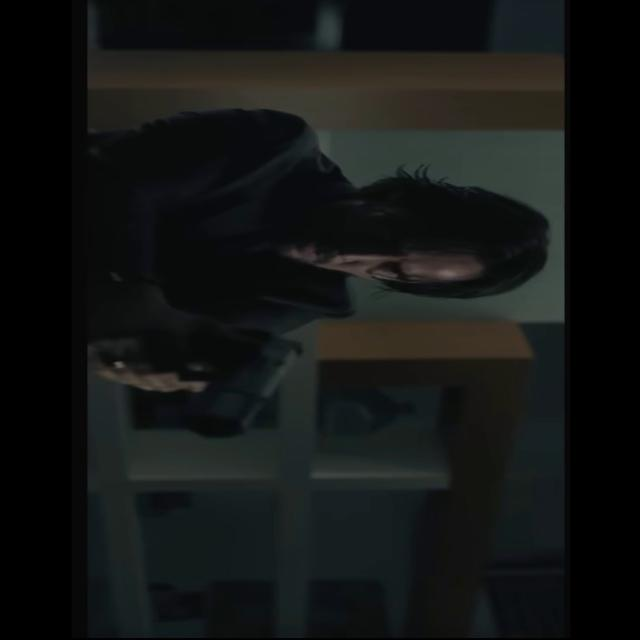weapons: (112, 320, 320, 450)
